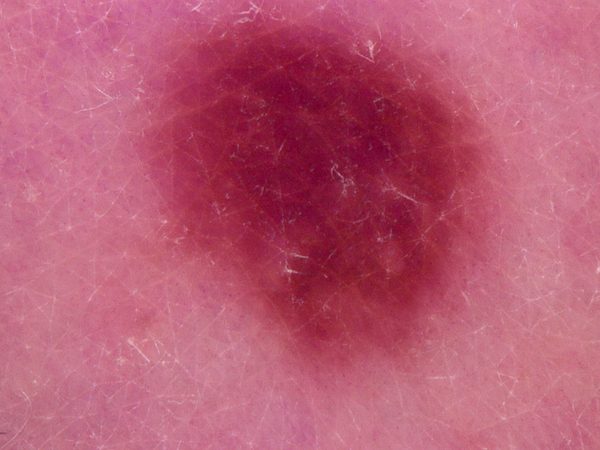Detected Lesion: (164, 2, 484, 388)
